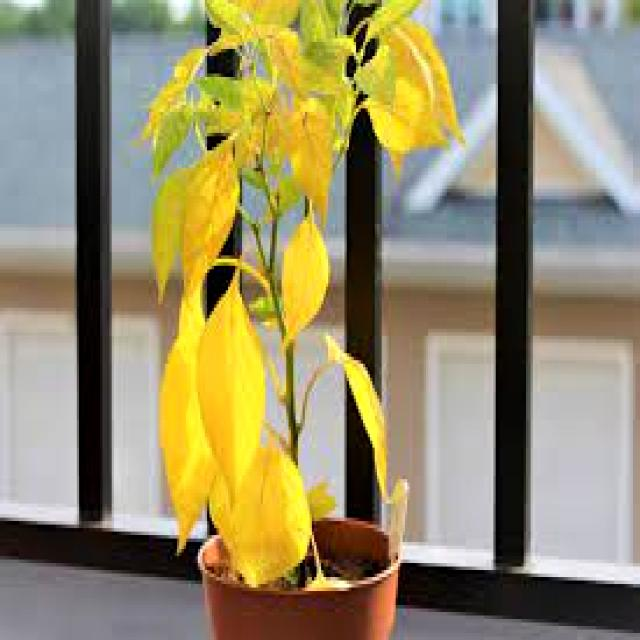yellowish leaf: (113, 2, 470, 588)
